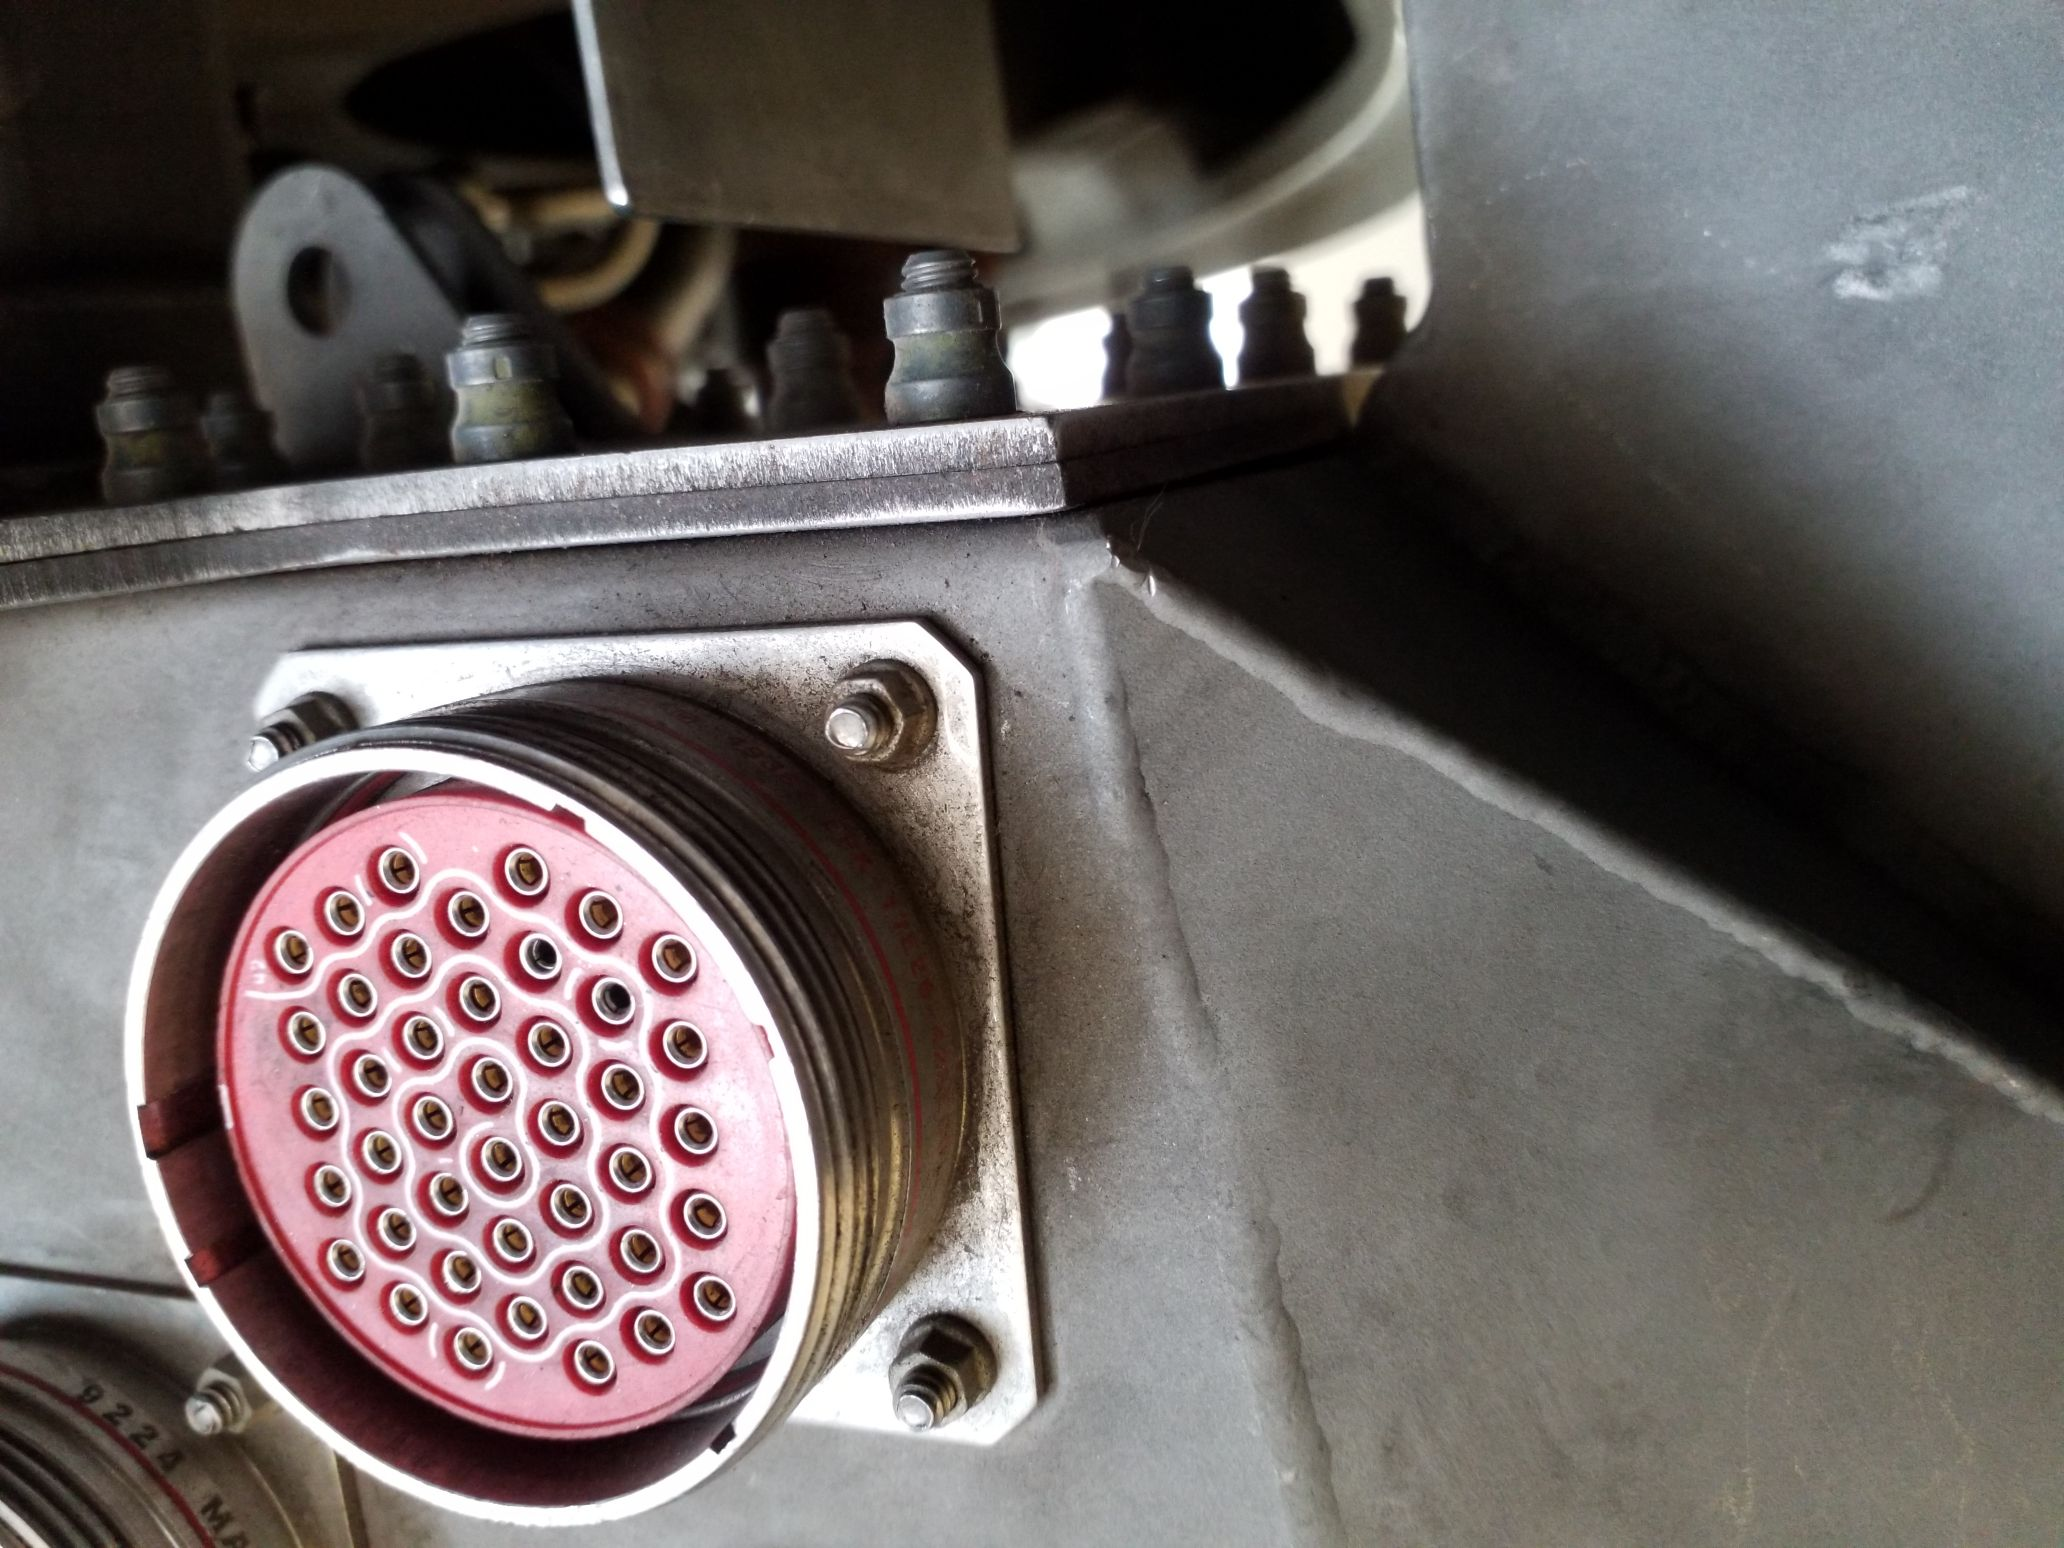inletround: (107, 706, 900, 1535)
